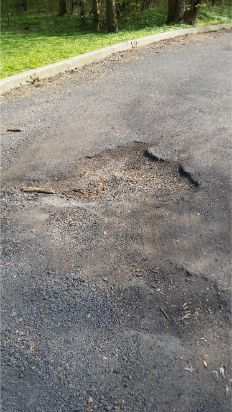pothole: (24, 138, 203, 213)
